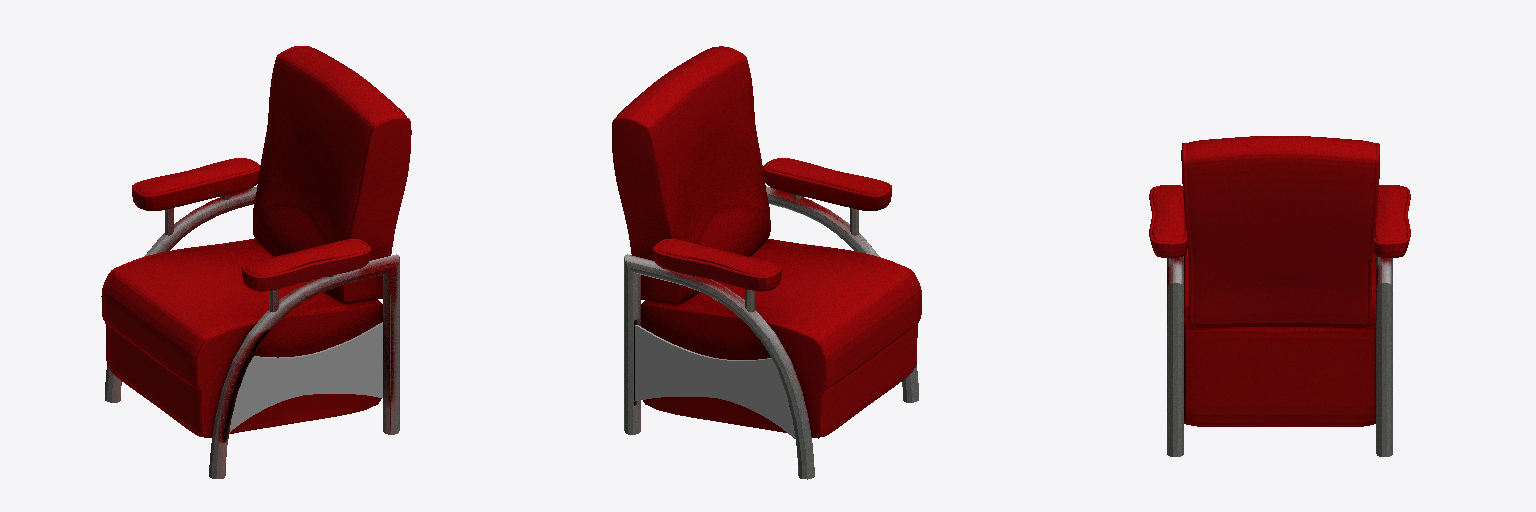
3 renders of one model, left to right at view 1: azimuth 30°, elevation 25°; view 2: azimuth 150°, elevation 25°; view 3: azimuth 270°, elevation 25°, orthographic.
Visible parts, largest first — view 1: Cube, Cube.001_Cube.003, CurveCircle.001_Mesh.001, Plane.000_Plane.005, Cube.003_Cube.004, Cube.002_Cube.001, CurveCircle_Mesh; view 2: Cube, Cube.001_Cube.003, Plane.001, CurveCircle_Mesh, Cube.002_Cube.001, Cube.003_Cube.004, CurveCircle.001_Mesh.001; view 3: Cube.001_Cube.003, Cube, CurveCircle.001_Mesh.001, CurveCircle_Mesh, Cube.002_Cube.001, Cube.003_Cube.004.
Part boxes in pixels (x1,y1,x2,y2): Cube: (101, 238, 382, 437); Cube.001_Cube.003: (253, 46, 411, 302); CurveCircle.001_Mesh.001: (209, 254, 399, 478); Plane.000_Plane.005: (229, 322, 382, 432); Cube.003_Cube.004: (132, 158, 259, 210); Cube.002_Cube.001: (241, 239, 370, 291); CurveCircle_Mesh: (105, 187, 256, 402); Cube: (641, 239, 921, 438); Cube.001_Cube.003: (612, 46, 770, 303); Plane.001: (635, 325, 795, 438); CurveCircle_Mesh: (624, 254, 814, 479); Cube.002_Cube.001: (763, 158, 891, 210); Cube.003_Cube.004: (653, 239, 782, 291); CurveCircle.001_Mesh.001: (766, 186, 918, 402); Cube.001_Cube.003: (1181, 136, 1379, 327); Cube: (1184, 249, 1375, 426); CurveCircle.001_Mesh.001: (1167, 256, 1183, 456); CurveCircle_Mesh: (1376, 256, 1392, 456); Cube.002_Cube.001: (1149, 185, 1187, 257); Cube.003_Cube.004: (1373, 185, 1410, 257).
Size of the model in its own units: 1.49 by 2.11 by 1.56.
5 materials, 4 textured.